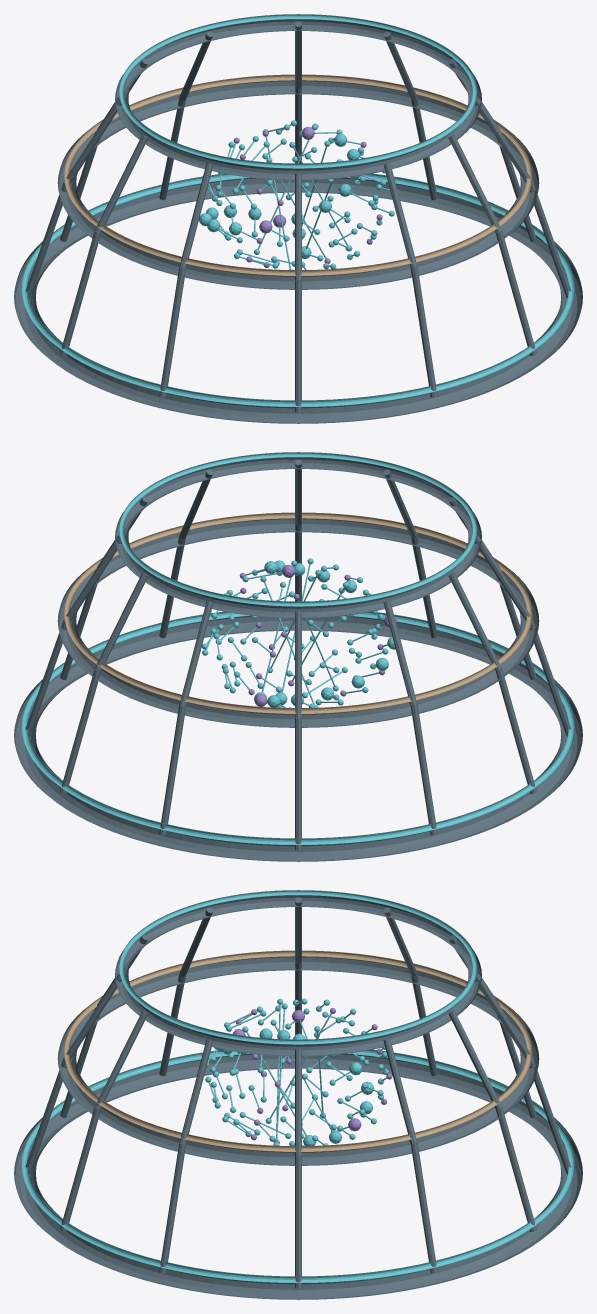
Rendered from nexus-core-sculpture.glb.
3 renders of one model, top to bottom at view 1: azimuth 30°, elevation 25°; view 2: azimuth 150°, elevation 25°; view 3: azimuth 270°, elevation 25°, orthographic.
Visible parts, largest first — view 1: ring_0, ring_2, ring_4, ring_1, ring_3, ring_5, support_5_0, support_3_0, support_6_0, support_2_0, support_4_0, support_3_1 (+13 smaller); view 2: ring_0, ring_2, ring_4, ring_1, ring_3, ring_5, support_9_0, support_7_0, support_6_0, support_10_0, support_8_0, support_7_1 (+13 smaller); view 3: ring_0, ring_2, ring_4, ring_1, ring_3, ring_5, support_1_0, support_11_0, support_2_0, support_10_0, support_0_0, support_3_0 (+13 smaller).
Boxes of the visible parts, x1=… form: ring_0: x1=14, y1=177, x2=582, y2=423; ring_2: x1=57, y1=80, x2=539, y2=289; ring_4: x1=115, y1=19, x2=481, y2=180; ring_1: x1=21, y1=173, x2=575, y2=406; ring_3: x1=64, y1=74, x2=532, y2=275; ring_5: x1=119, y1=14, x2=477, y2=168; support_5_0: x1=159, y1=267, x2=186, y2=397; support_3_0: x1=411, y1=267, x2=437, y2=397; support_6_0: x1=60, y1=231, x2=100, y2=355; support_2_0: x1=495, y1=231, x2=536, y2=355; support_4_0: x1=295, y1=280, x2=301, y2=412; support_3_1: x1=383, y1=163, x2=417, y2=268; ring_0: x1=14, y1=615, x2=582, y2=861; ring_2: x1=57, y1=518, x2=539, y2=727; ring_4: x1=115, y1=457, x2=481, y2=618; ring_1: x1=21, y1=611, x2=575, y2=844; ring_3: x1=64, y1=512, x2=532, y2=713; ring_5: x1=119, y1=452, x2=477, y2=606; support_9_0: x1=159, y1=705, x2=186, y2=835; support_7_0: x1=410, y1=705, x2=437, y2=835; support_6_0: x1=496, y1=669, x2=536, y2=793; support_10_0: x1=60, y1=669, x2=101, y2=793; support_8_0: x1=295, y1=718, x2=301, y2=850; support_7_1: x1=383, y1=601, x2=417, y2=706; ring_0: x1=14, y1=1053, x2=582, y2=1299; ring_2: x1=57, y1=956, x2=539, y2=1165; ring_4: x1=115, y1=895, x2=481, y2=1056; ring_1: x1=21, y1=1049, x2=575, y2=1282; ring_3: x1=64, y1=950, x2=532, y2=1151; ring_5: x1=119, y1=890, x2=477, y2=1044; support_1_0: x1=159, y1=1143, x2=185, y2=1273; support_11_0: x1=411, y1=1143, x2=437, y2=1273; support_2_0: x1=60, y1=1107, x2=100, y2=1231; support_10_0: x1=496, y1=1107, x2=536, y2=1231; support_0_0: x1=295, y1=1156, x2=301, y2=1288; support_3_0: x1=25, y1=1058, x2=67, y2=1174.
Size of the model in its own units: 13.52 by 5.72 by 13.52.
